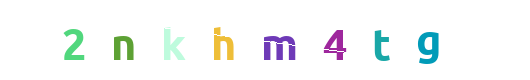2: (52, 0, 132, 80)
4: (239, 0, 319, 80)
G: (370, 0, 450, 80)
H: (182, 0, 262, 80)
K: (181, 0, 261, 80)
M: (225, 0, 305, 80)
N: (83, 0, 163, 80)
T: (296, 0, 376, 80)
